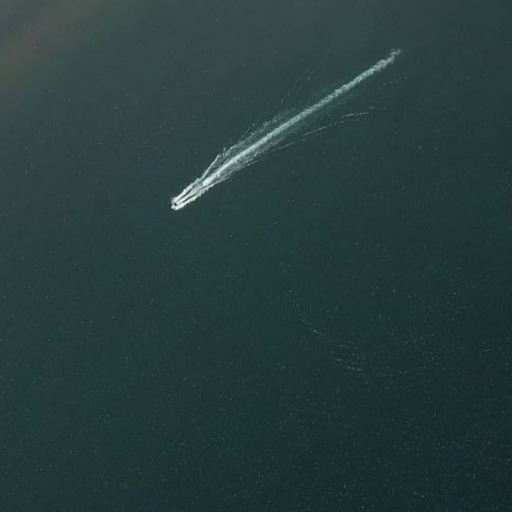ship: (169, 194, 186, 211)
